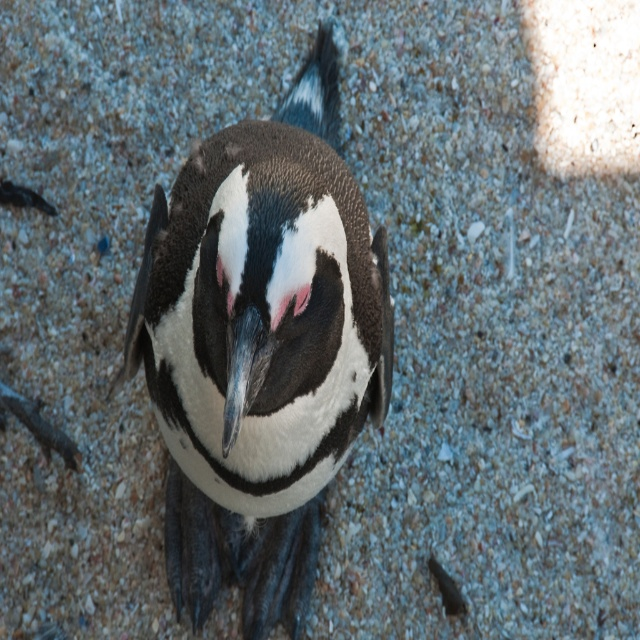Penguin: (120, 37, 400, 595)
